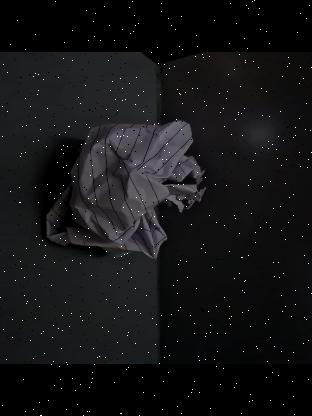Others: (40, 115, 204, 274)
